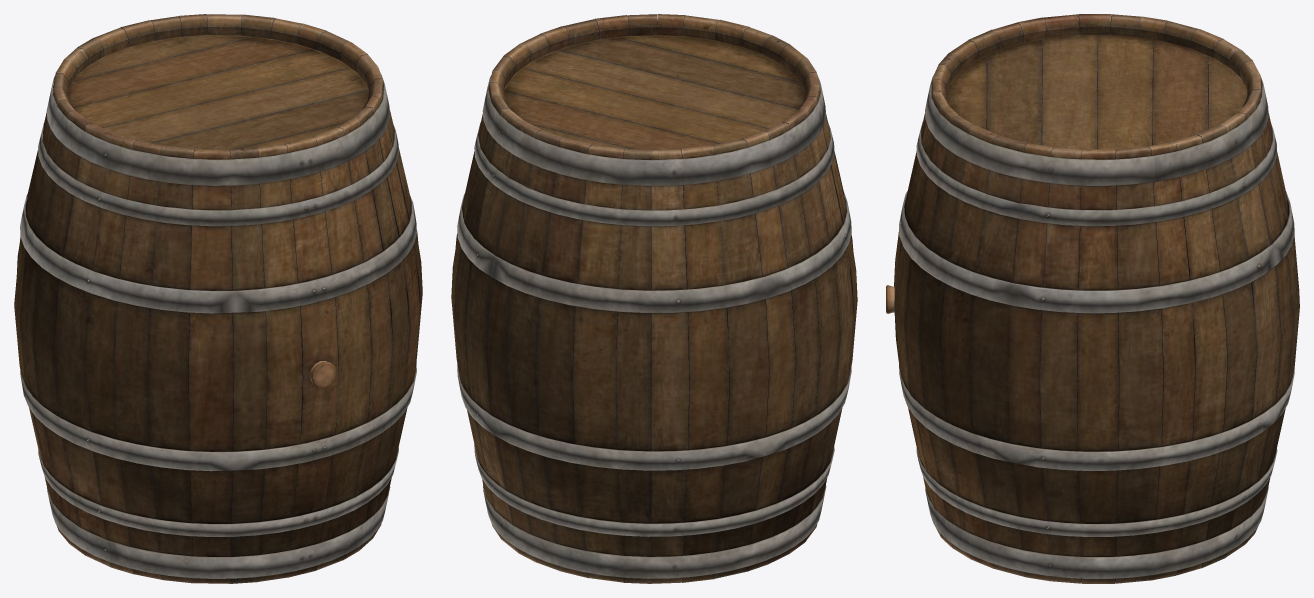
File: wine_barrel_lod.glb
3 views of the same model, side by side, from view 1: azimuth 30°, elevation 25°; view 2: azimuth 150°, elevation 25°; view 3: azimuth 270°, elevation 25° (orthographic).
Visible parts, largest first — view 1: wine_barrel_01, wine_barrel_01_Lid, wine_barrel_01_bung; view 2: wine_barrel_01, wine_barrel_01_Lid; view 3: wine_barrel_01, wine_barrel_01_Lid.
Part boxes in pixels (x1=…): wine_barrel_01: x1=14, y1=14, x2=422, y2=583; wine_barrel_01_Lid: x1=67, y1=35, x2=368, y2=149; wine_barrel_01_bung: x1=310, y1=361, x2=336, y2=388; wine_barrel_01: x1=451, y1=14, x2=857, y2=583; wine_barrel_01_Lid: x1=503, y1=35, x2=805, y2=152; wine_barrel_01: x1=894, y1=14, x2=1299, y2=583; wine_barrel_01_Lid: x1=946, y1=35, x2=1247, y2=149.
Size of the model in its own units: 0.7419 by 0.8695 by 0.756.
Materials: 1 (1 with a texture image).
